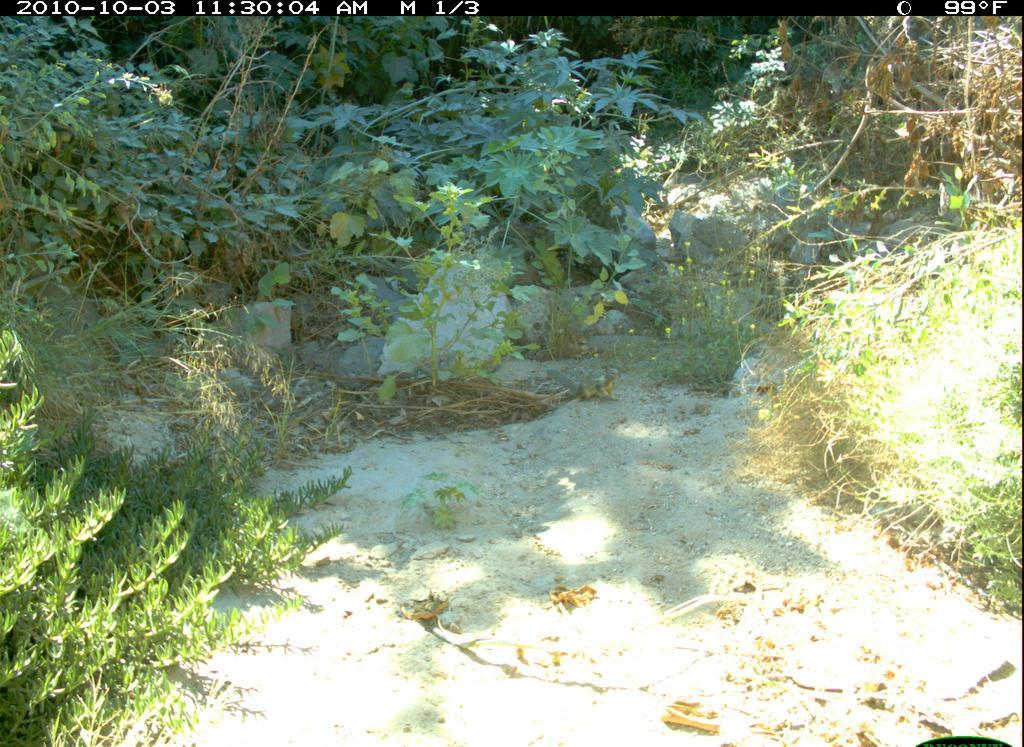squirrel: (543, 361, 624, 409)
